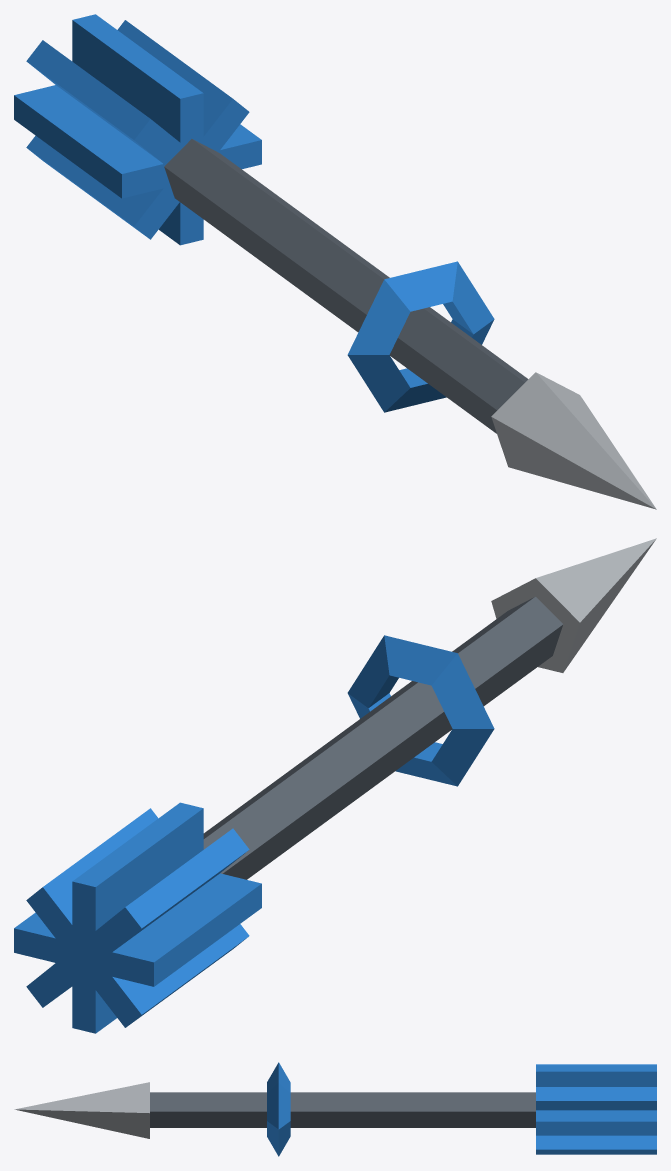
Rendered from electrifying-dart.lod.glb.
The picture shows the model from 3 angles, top to bottom: view 1: azimuth 30°, elevation 25°; view 2: azimuth 150°, elevation 25°; view 3: azimuth 270°, elevation 25°; orthographic projection. The views are drawn at different scales.
Visible parts, largest first — view 1: m; view 2: m; view 3: m.
Boxes of the visible parts, left/top/right/bottom form: m: left=14, top=14, right=656, bottom=509; m: left=14, top=538, right=656, bottom=1033; m: left=14, top=1062, right=656, bottom=1156.
Size of the model in its own units: 0.0119 by 0.0113 by 0.08.
